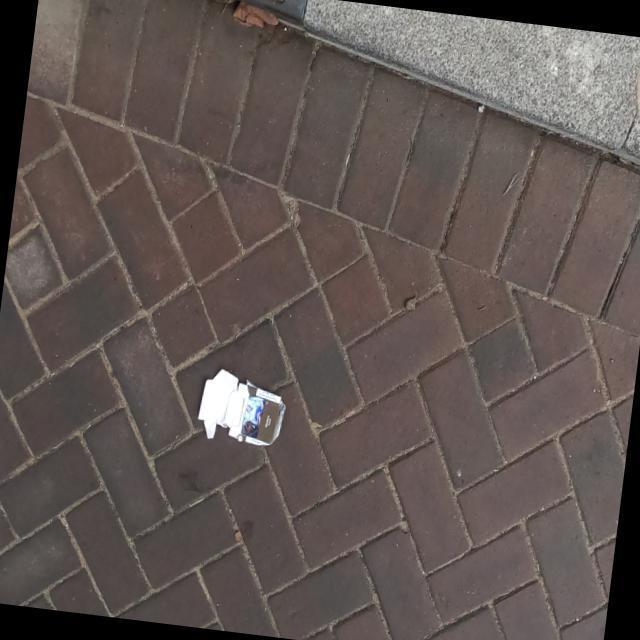Paper: (198, 365, 288, 452)
